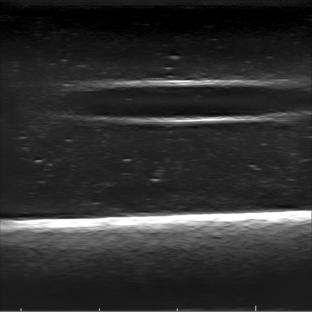vessel: (61, 77, 308, 125)
